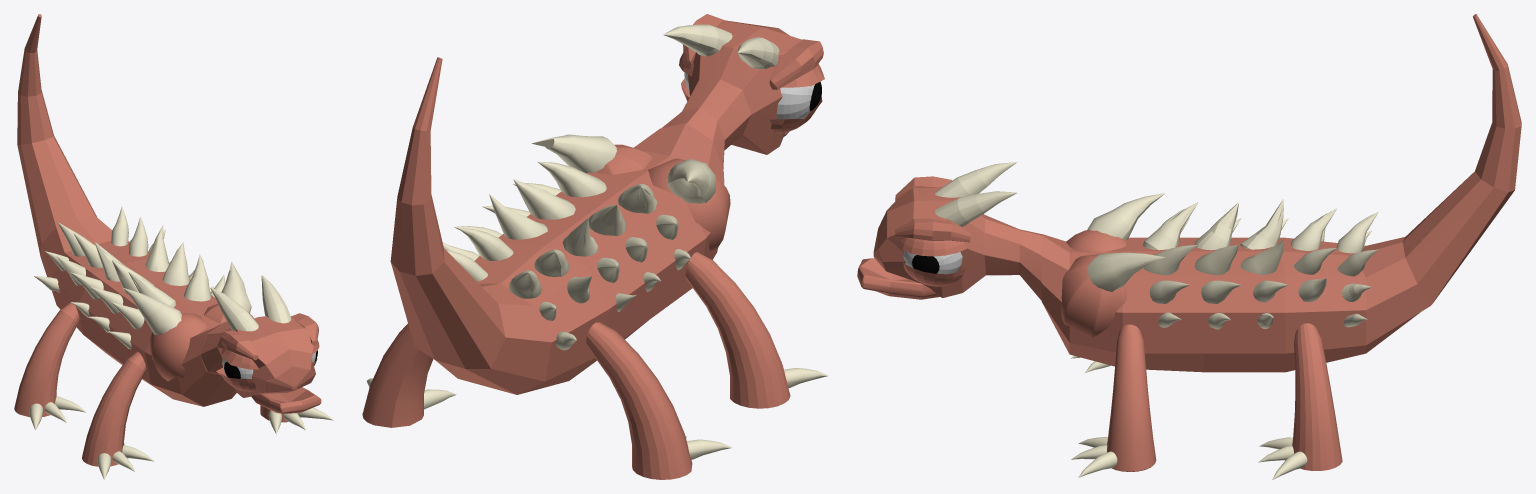
The model's file is firben.fbx.
3 views of the same model, side by side, from view 1: azimuth 30°, elevation 25°; view 2: azimuth 150°, elevation 25°; view 3: azimuth 270°, elevation 25° (orthographic). The views are drawn at different scales.
Visible parts, largest first — view 1: pCylinder1, pCylinder18, pCylinder52, pCylinder16, pCylinder17, pSphere11, pCube4, pCube2, pCylinder20, pCylinder19, pCylinder25, pCylinder27 (+5 smaller); view 2: pCylinder1, pCylinder18, pCylinder16, pCylinder17, pCylinder52, pCylinder11, pSphere11, pCube4, pCylinder21, pCylinder19, pCylinder25, pCylinder27 (+5 smaller); view 3: pCylinder1, pCylinder18, pCylinder11, pCylinder2, pCylinder52, pSphere9, pSphere11, pCylinder21, pCube2, pCylinder19, pCube1, pCylinder20 (+4 smaller).
Boxes of the visible parts, x1=… form: pCylinder1: x1=17, y1=14, x2=236, y2=406; pCylinder18: x1=200, y1=316, x2=315, y2=397; pCylinder52: x1=34, y1=222, x2=175, y2=349; pCylinder16: x1=14, y1=301, x2=86, y2=430; pCylinder17: x1=82, y1=351, x2=154, y2=479; pSphere11: x1=123, y1=287, x2=207, y2=381; pCube4: x1=216, y1=330, x2=258, y2=391; pCube2: x1=251, y1=387, x2=321, y2=413; pCylinder20: x1=210, y1=287, x2=258, y2=331; pCylinder19: x1=261, y1=275, x2=291, y2=323; pCylinder25: x1=184, y1=254, x2=210, y2=301; pCylinder27: x1=162, y1=242, x2=189, y2=285; pCylinder1: x1=390, y1=57, x2=724, y2=394; pCylinder18: x1=662, y1=20, x2=801, y2=169; pCylinder16: x1=586, y1=322, x2=731, y2=479; pCylinder17: x1=685, y1=252, x2=828, y2=408; pCylinder52: x1=508, y1=184, x2=690, y2=350; pCylinder11: x1=362, y1=324, x2=456, y2=427; pSphere11: x1=648, y1=158, x2=730, y2=251; pCube4: x1=769, y1=39, x2=824, y2=133; pCylinder21: x1=532, y1=134, x2=616, y2=172; pCylinder19: x1=663, y1=24, x2=732, y2=56; pCylinder25: x1=538, y1=161, x2=606, y2=197; pCylinder27: x1=513, y1=179, x2=575, y2=219; pCylinder1: x1=1041, y1=14, x2=1521, y2=372; pCylinder18: x1=873, y1=186, x2=1041, y2=300; pCylinder11: x1=1258, y1=323, x2=1342, y2=479; pCylinder2: x1=1107, y1=324, x2=1156, y2=471; pCylinder52: x1=1143, y1=199, x2=1378, y2=253; pSphere9: x1=1060, y1=254, x2=1126, y2=337; pSphere11: x1=1066, y1=193, x2=1164, y2=252; pCylinder21: x1=1086, y1=252, x2=1164, y2=291; pCube2: x1=857, y1=258, x2=939, y2=299; pCylinder19: x1=934, y1=191, x2=1017, y2=226; pCube1: x1=895, y1=218, x2=970, y2=242; pCylinder20: x1=935, y1=162, x2=1017, y2=197.
Size of the model in its own units: 5.87 by 7.55 by 11.71.
